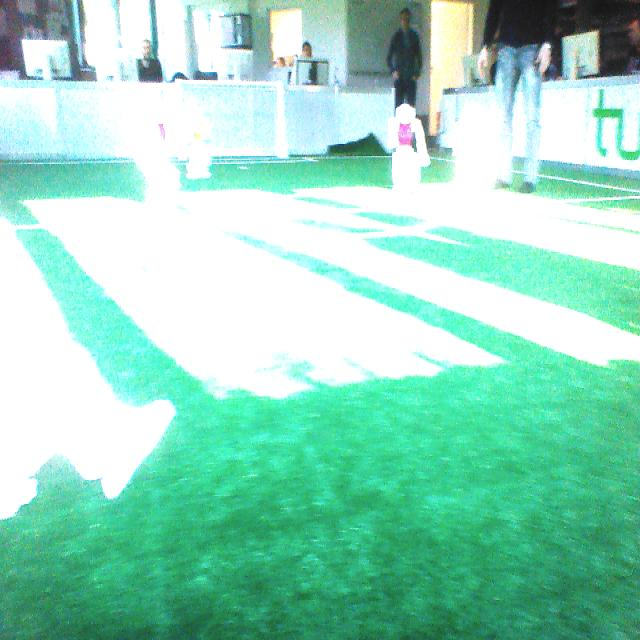goalpost: (172, 76, 190, 160), (274, 81, 290, 160)
